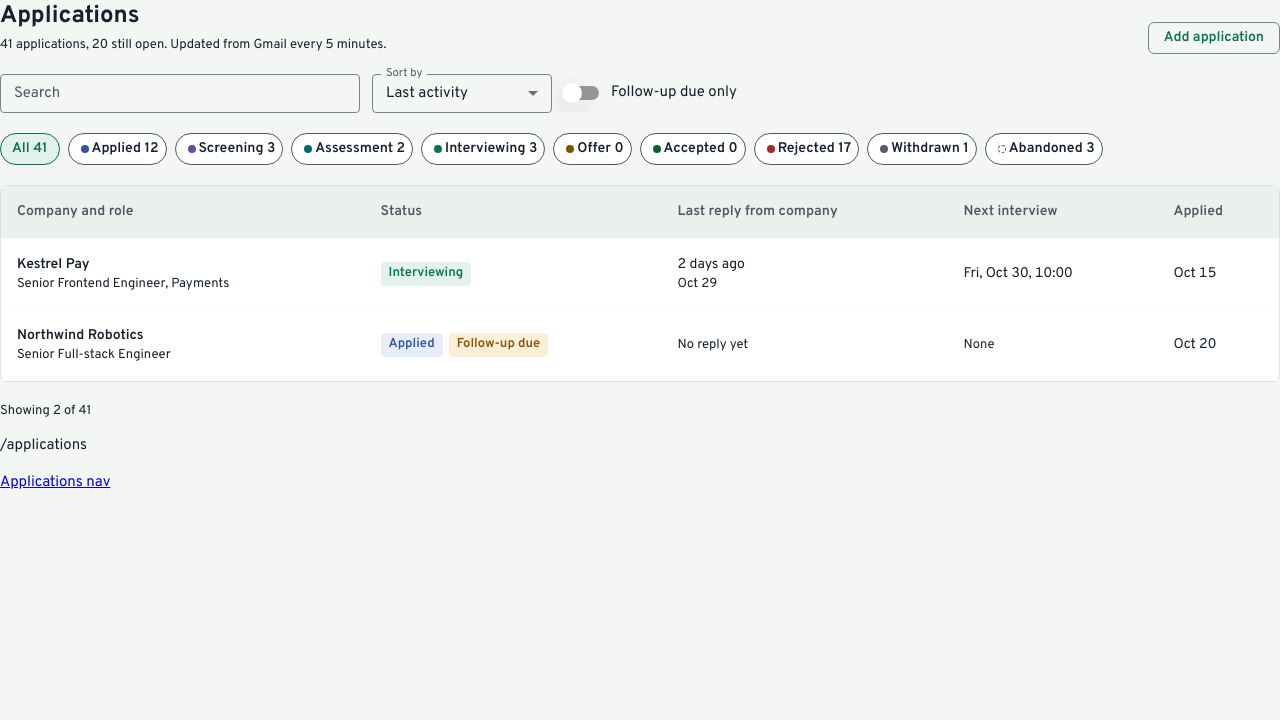
ApplicationsPage › the Add application dialog sends empty optional fields as null and shows the server's field errors
Expected: the link "Kestrel Pay" is shown, left=17, top=256, right=90, bottom=273
Click the button "Add application" at [1214, 38], box left=1148, top=22, right=1279, bottom=54
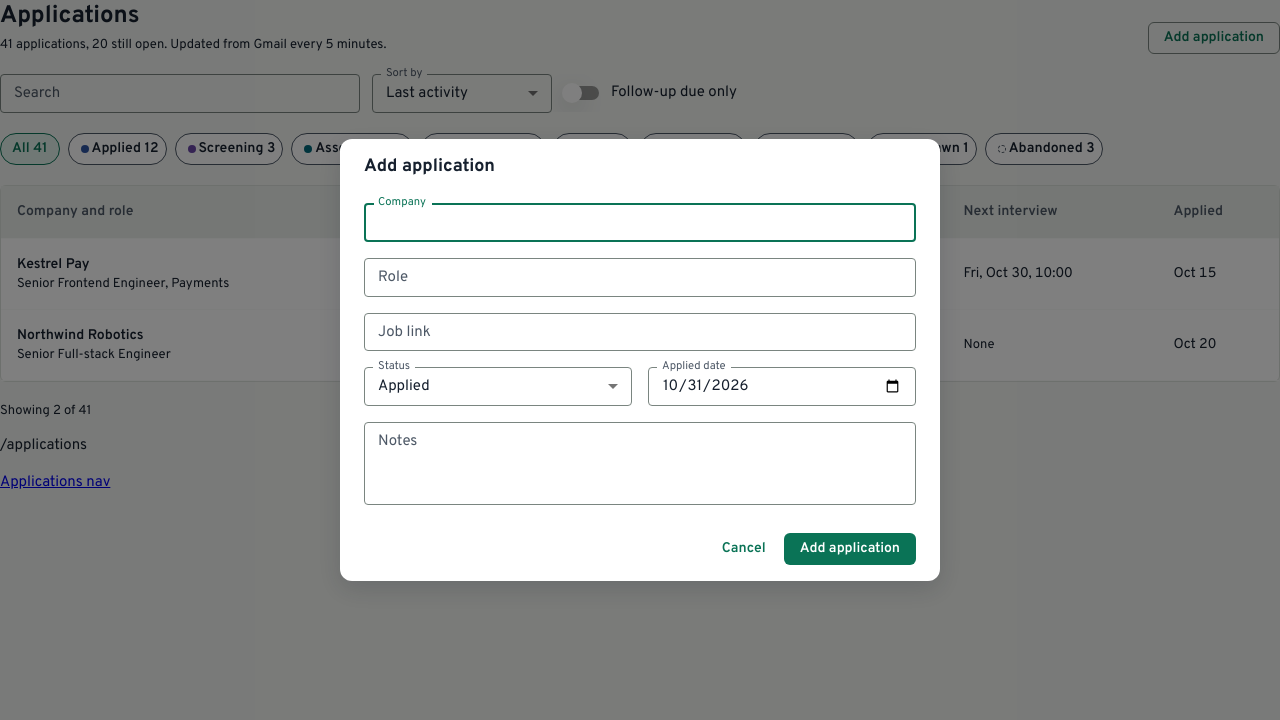
Type "Tidewater Labs" into the field labelled "Company" at [640, 223], box left=364, top=203, right=916, bottom=242
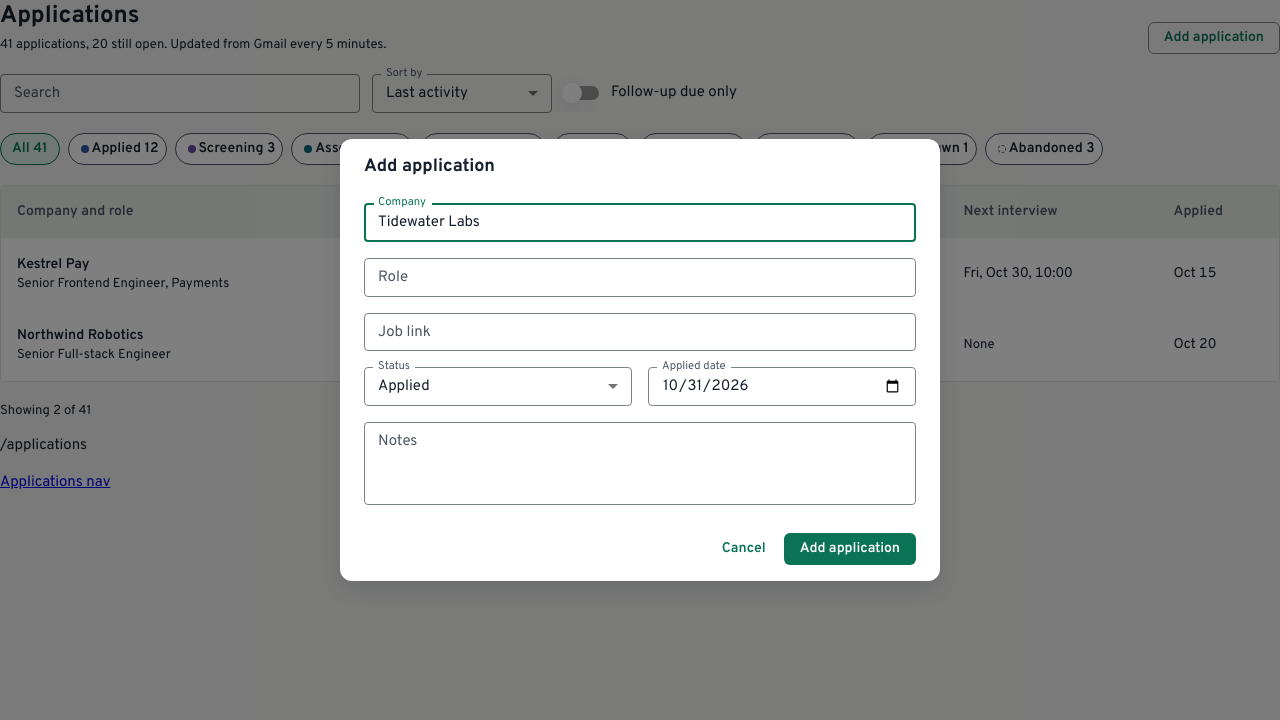
Type "Staff Engineer" into the field labelled "Role" at [640, 277], box left=364, top=258, right=916, bottom=296
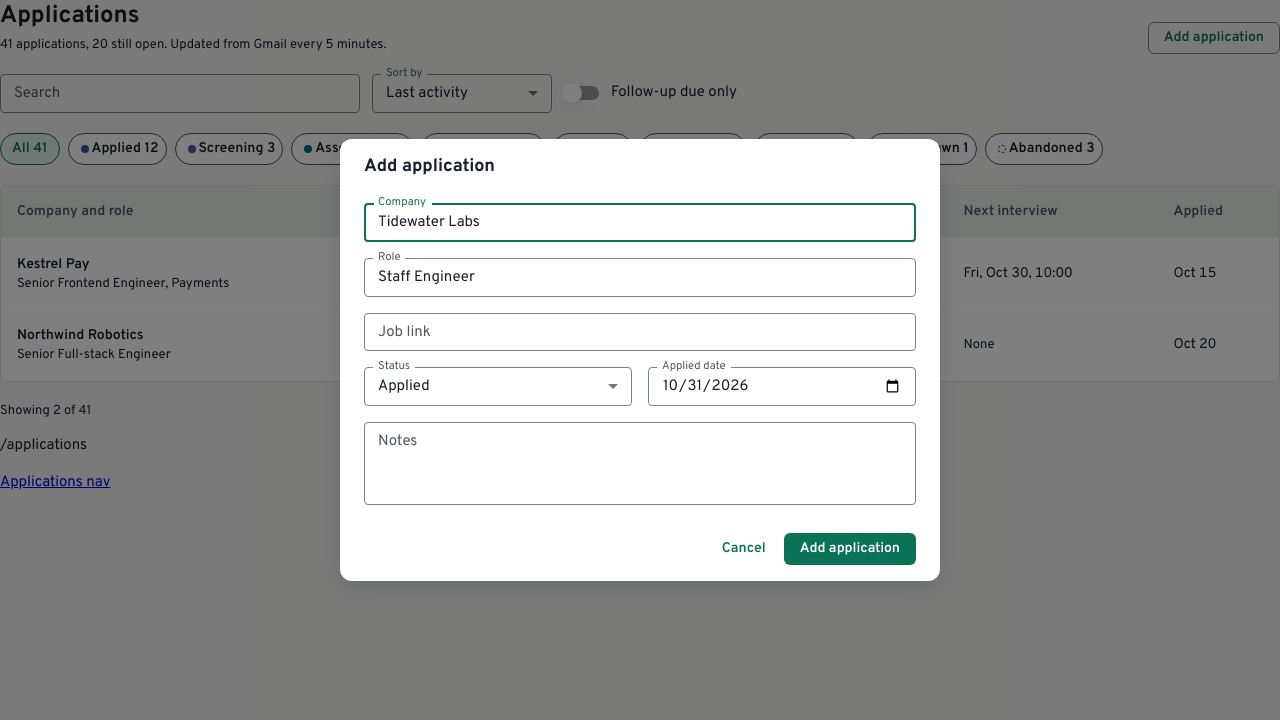
Clear the date field labelled "Applied date" at [782, 386], box left=648, top=367, right=916, bottom=406
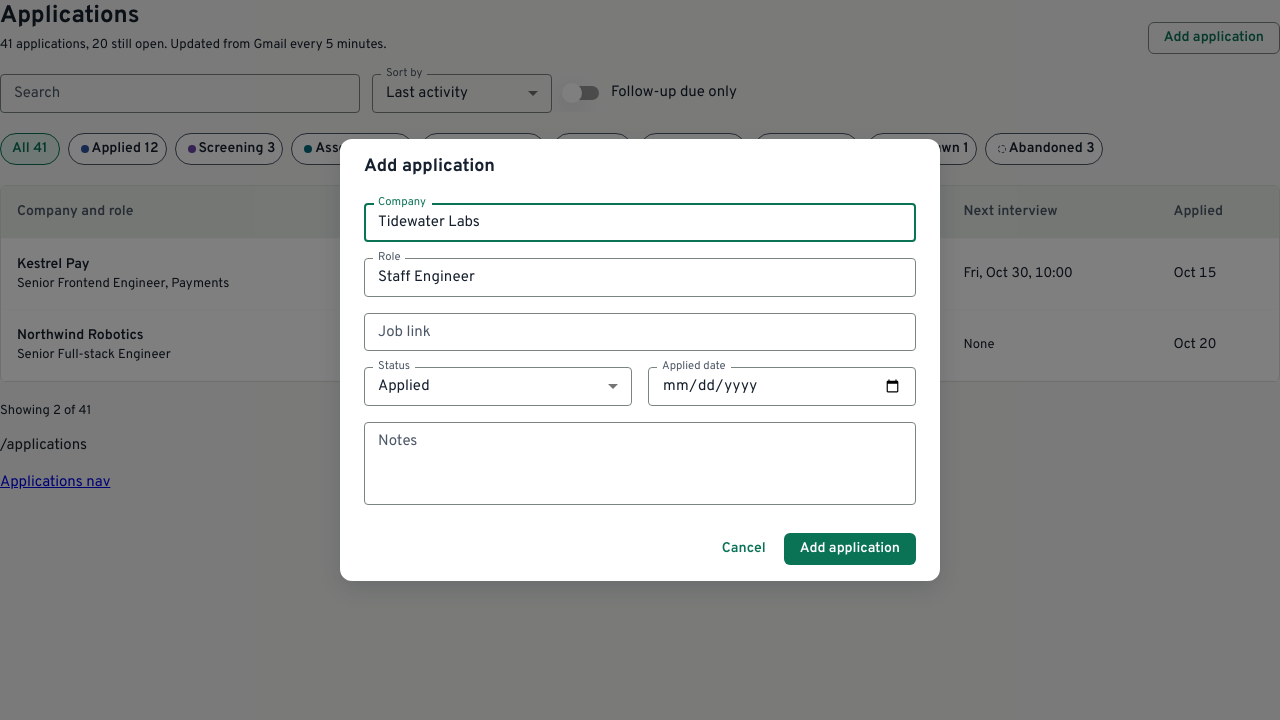
Click the button "Add application" at [850, 549], box left=784, top=533, right=916, bottom=565
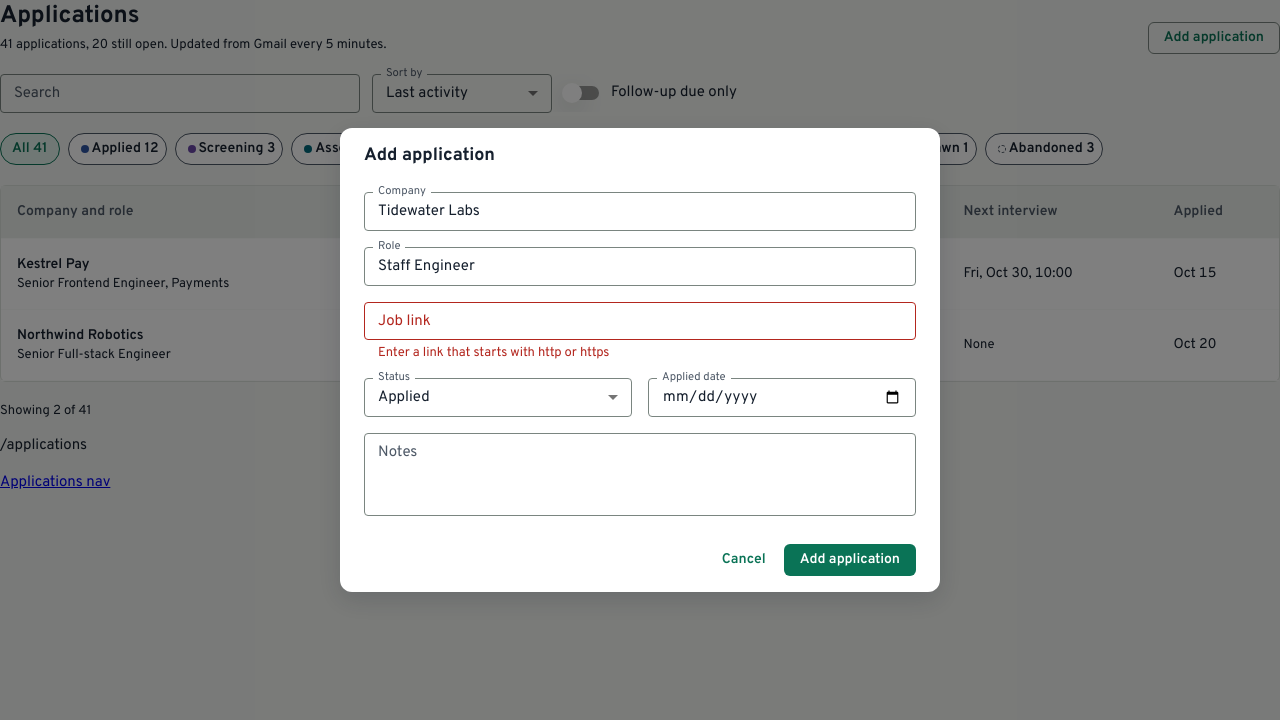
Expected: the dialog named "Add application" is shown, left=340, top=128, right=940, bottom=592
Expected: the text "Enter a link that starts with http or https" is shown, left=378, top=345, right=610, bottom=361
